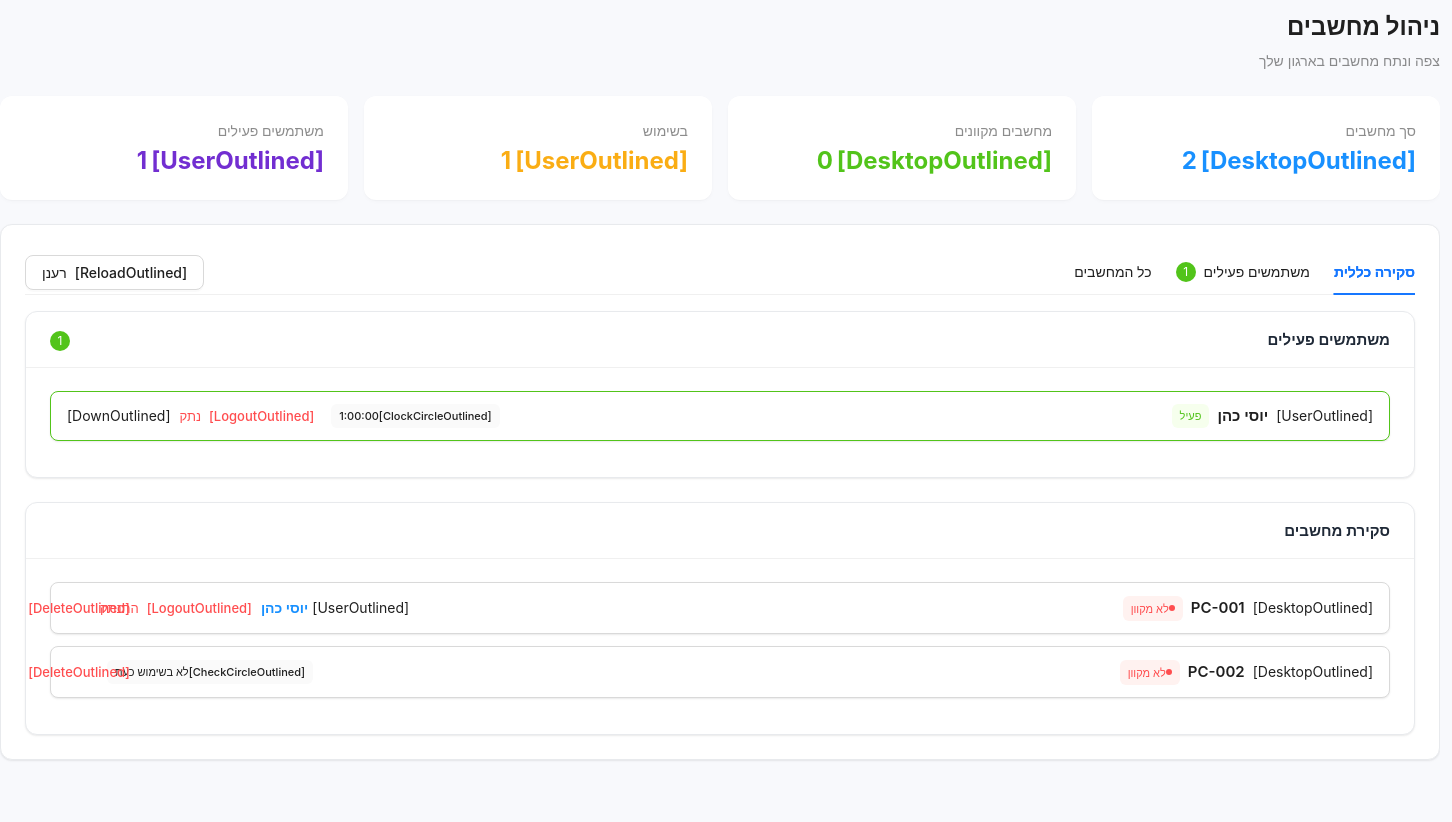
ComputersPage › handles load error gracefully
This screenshot has width=1452, height=822.
Click the text "רענן" at (54, 272), box 42,264 -> 67,280
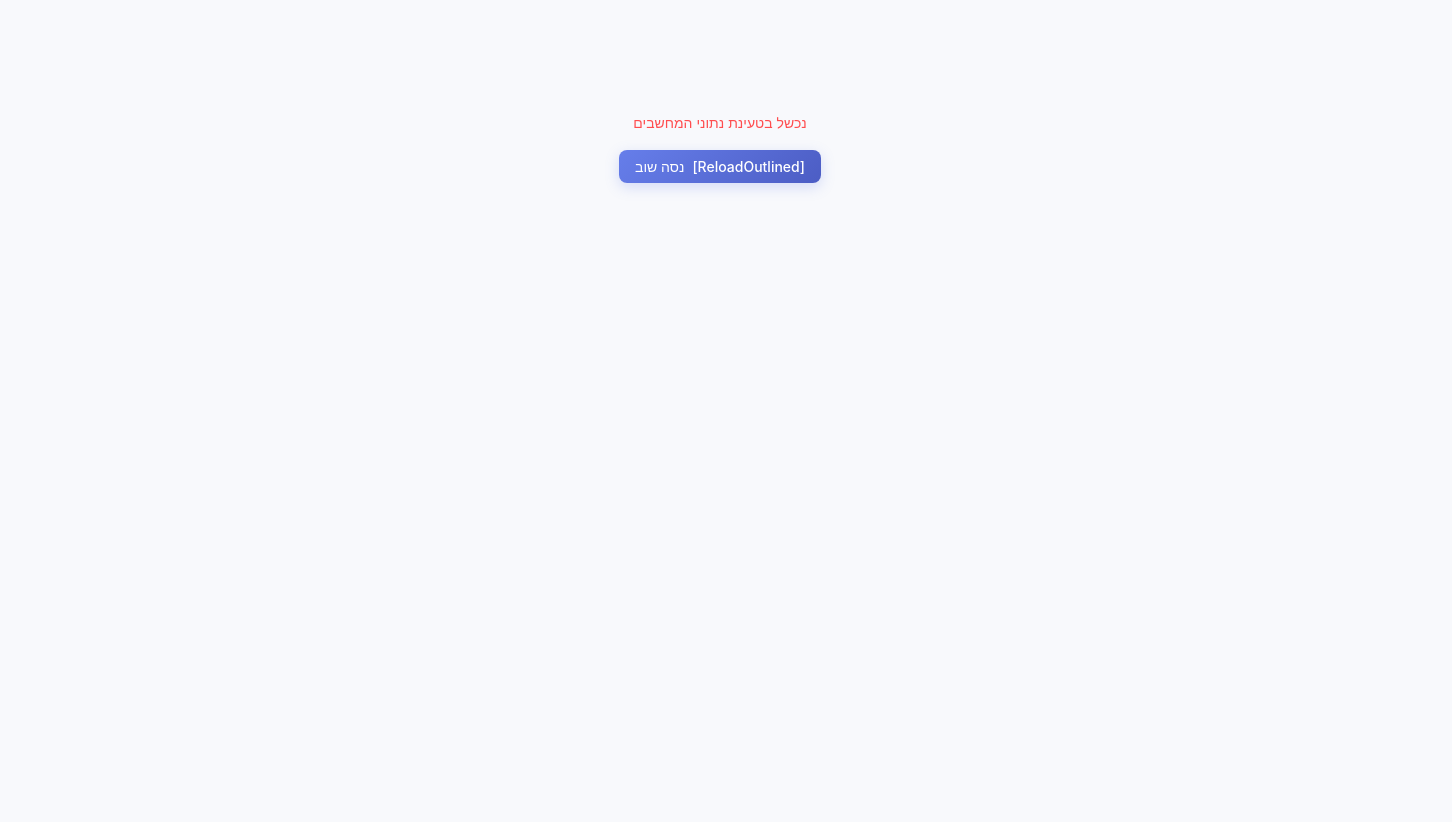
Now the text "נכשל בטעינת נתוני המחשבים" is shown, box 633,114 -> 807,131
